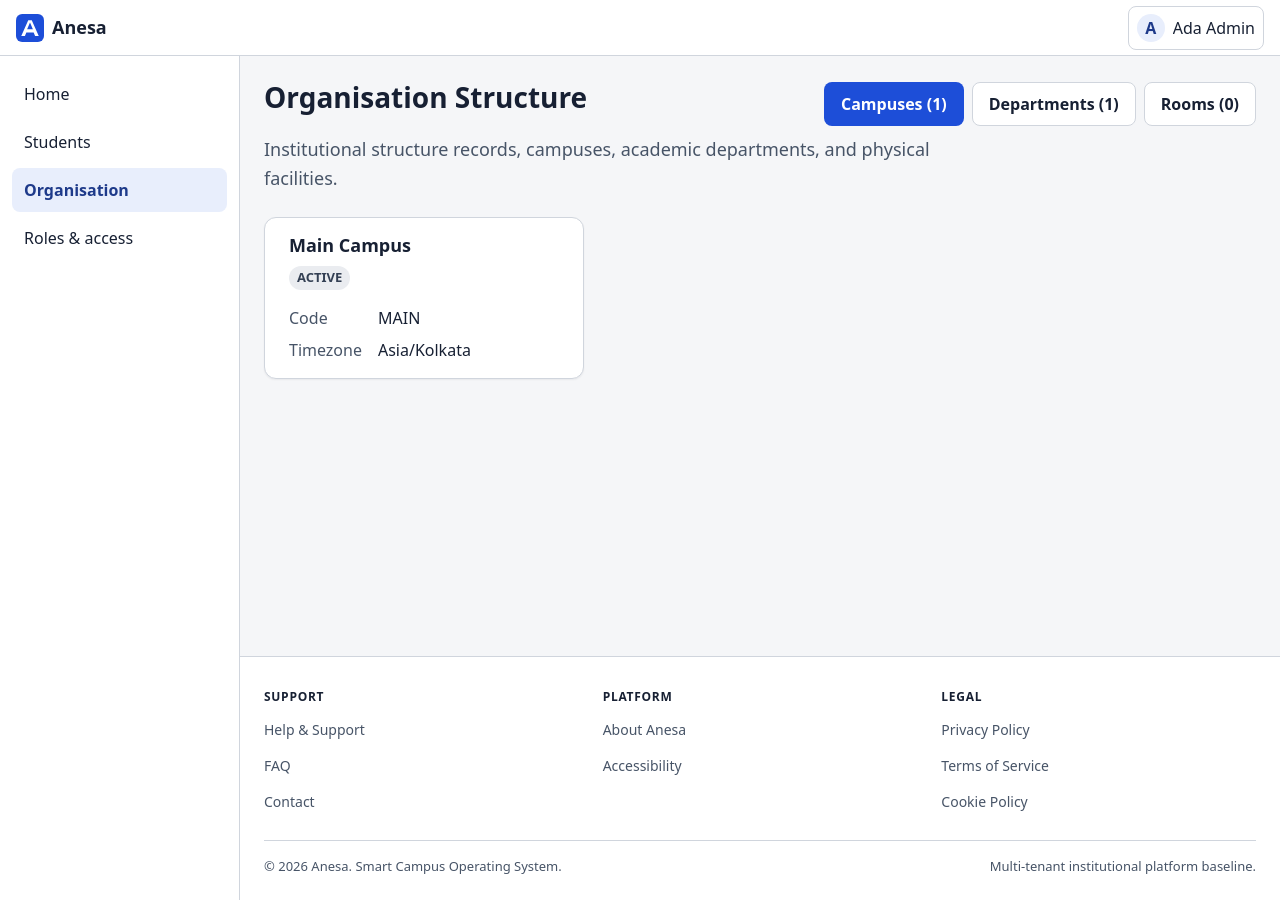
Test: Phase 1 Pages (Web Integration) › OrganisationPage › renders campuses and allows switching to departments tab
Expected: the heading "Main Campus" is shown, [289,233,411,257]
Expected: the text "MAIN" is shown, [378,307,420,329]
Click the button "Departments (1)": (1054, 104) [972,82,1136,126]
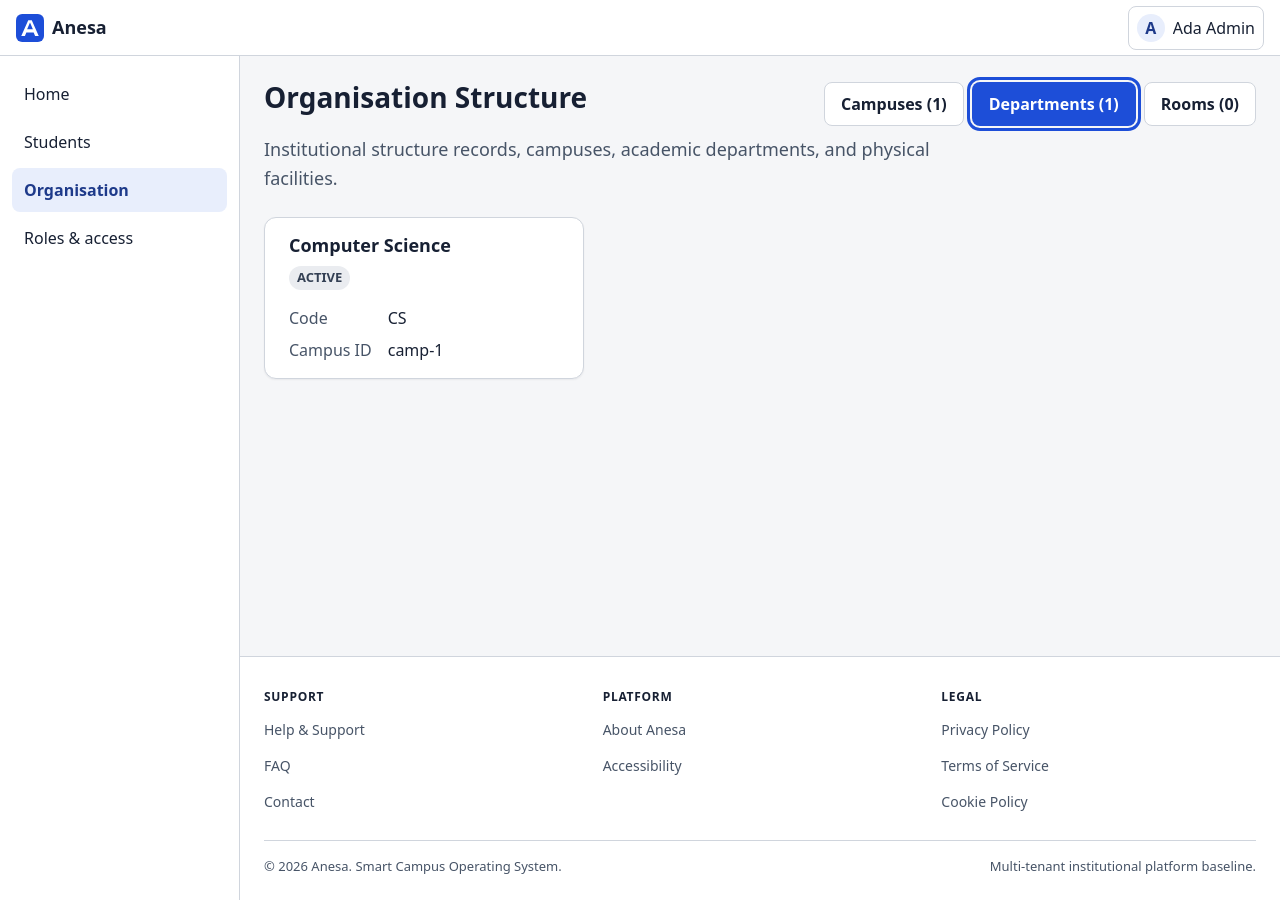
Expected: the heading "Computer Science" is shown, [289,233,451,257]
Expected: the text "CS" is shown, [388,307,407,329]
